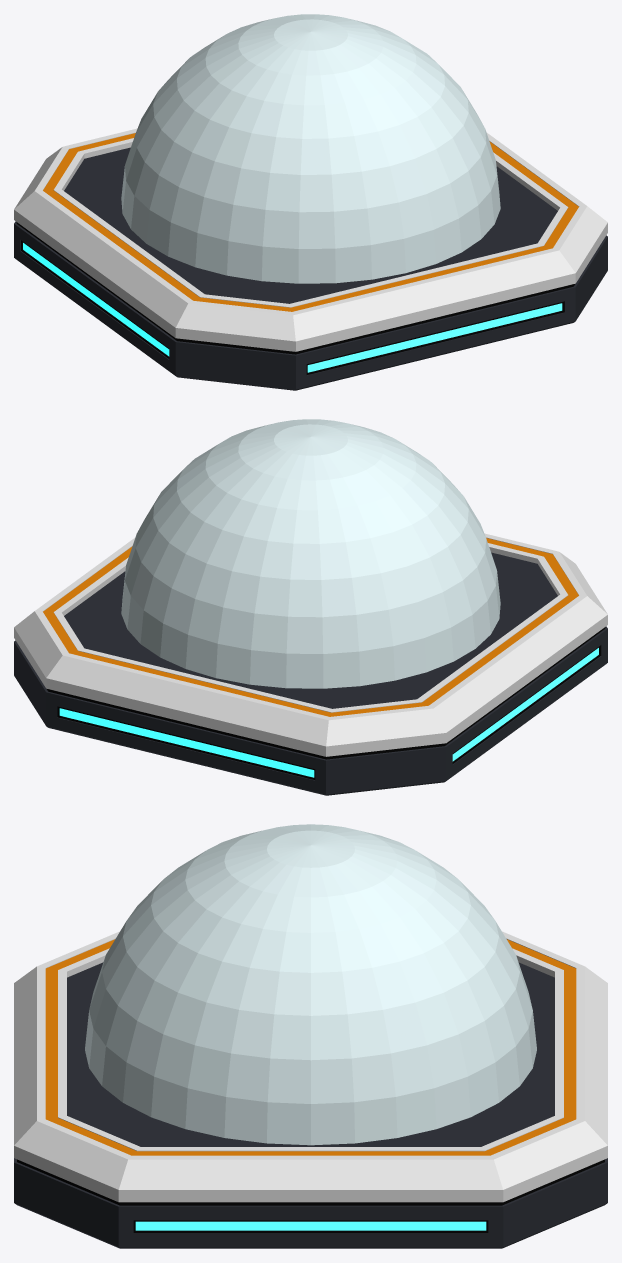
The model's file is SM_Bio_Dome_Planter.fbx.
3 views of the same model, one above another, from view 1: azimuth 30°, elevation 25°; view 2: azimuth 150°, elevation 25°; view 3: azimuth 270°, elevation 25° (orthographic). The views are drawn at different scales.
Parts seen in each view (by area): view 1: SM_Bio_Dome_Planter; view 2: SM_Bio_Dome_Planter; view 3: SM_Bio_Dome_Planter.
Part boxes in pixels (x1,y1,x2,y2): SM_Bio_Dome_Planter: (14,14,607,390); SM_Bio_Dome_Planter: (14,419,607,795); SM_Bio_Dome_Planter: (14,824,607,1248).
Bounding box in the file's own units: 40.48 × 20.99 × 40.48.
